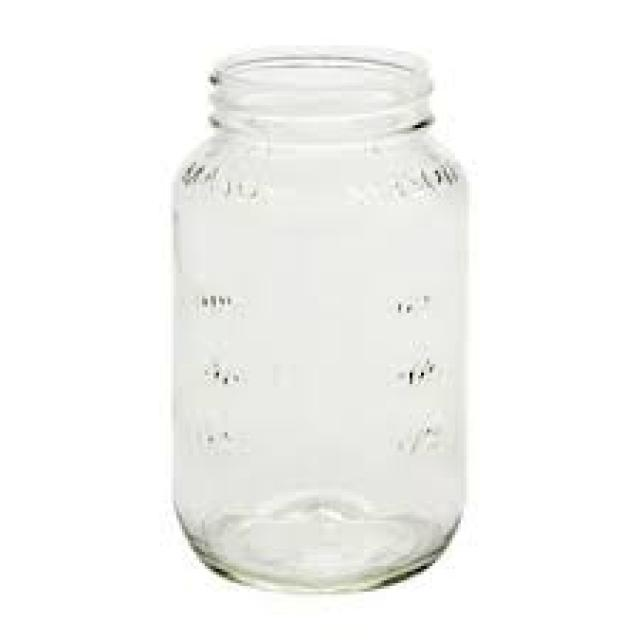glass: (171, 45, 469, 589)
